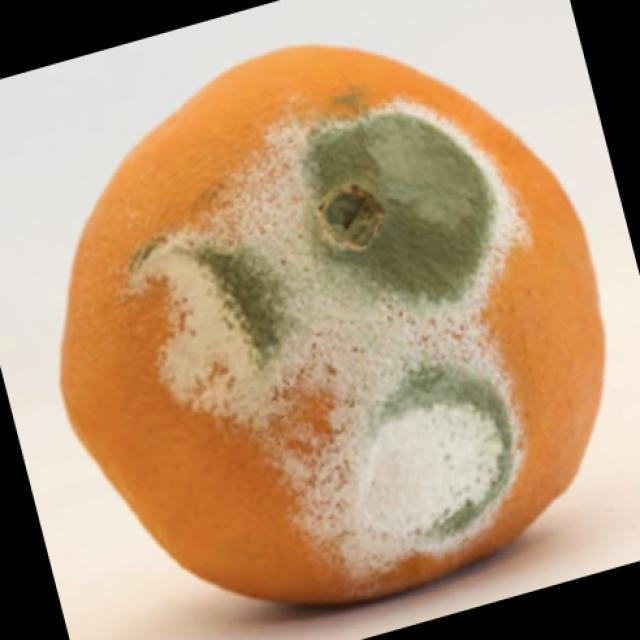sedikit-busuk: (62, 46, 603, 601), (131, 104, 519, 568)
